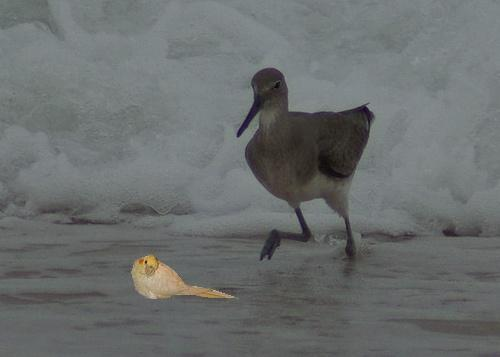tampered: (132, 255, 239, 299)
